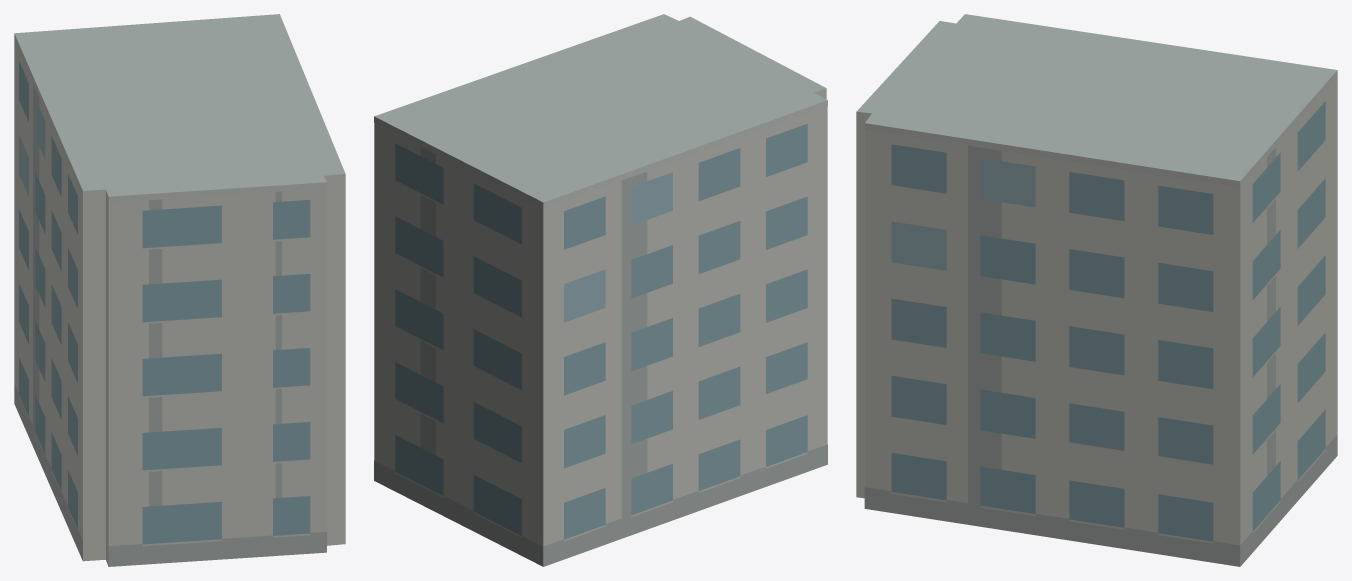
The model's file is survey-upis-32997051.glb.
The picture shows the model from 3 angles, left to right: view 1: azimuth 30°, elevation 25°; view 2: azimuth 150°, elevation 25°; view 3: azimuth 270°, elevation 25°; orthographic projection. The views are drawn at different scales.
Visible parts, largest first — view 1: survey-upis-32997051.tmp; view 2: survey-upis-32997051.tmp; view 3: survey-upis-32997051.tmp.
Part boxes in pixels (<box>): survey-upis-32997051.tmp: <box>14,14,345,566</box>; survey-upis-32997051.tmp: <box>374,14,827,566</box>; survey-upis-32997051.tmp: <box>856,14,1337,566</box>.
Size of the model in its own units: 13.21 by 14.2 by 16.06.
